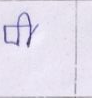i_matra: (18, 12, 38, 45)
